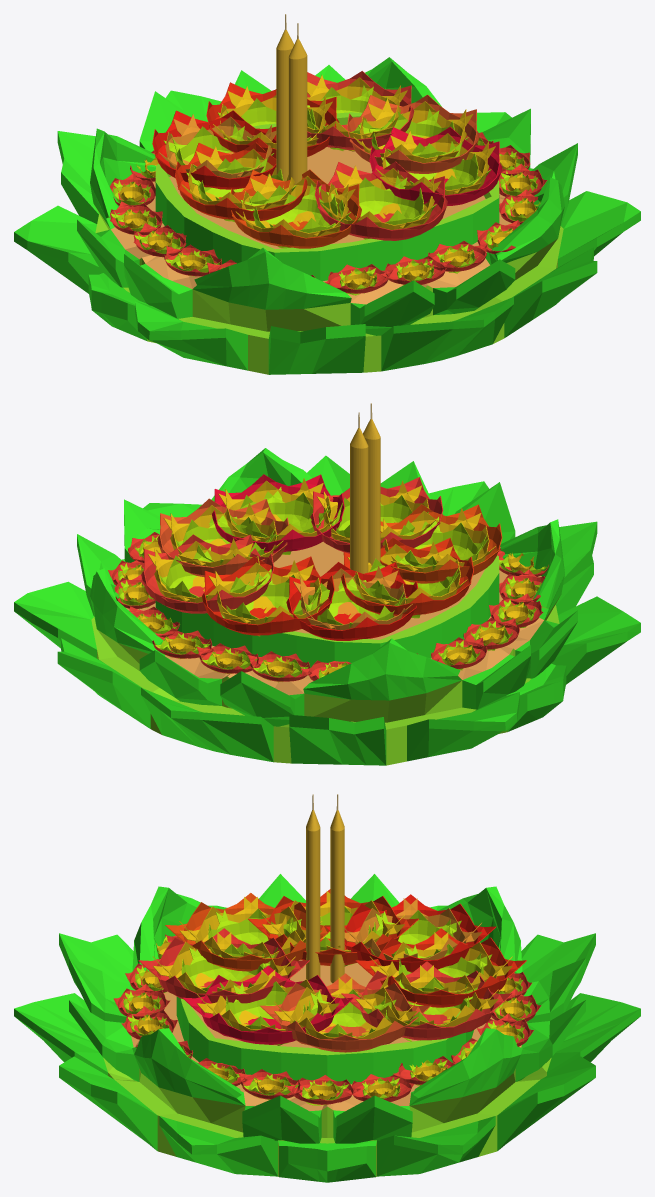
Rendered from Krathong.gltf.
The picture shows the model from 3 angles, top to bottom: view 1: azimuth 30°, elevation 25°; view 2: azimuth 150°, elevation 25°; view 3: azimuth 270°, elevation 25°; orthographic projection.
Visible parts, largest first — view 1: Object_4, Object_6, Object_5, Object_28, Object_19, Object_10, Object_2, Object_7, Object_16, Object_13, Object_20, Object_22 (+25 smaller); view 2: Object_4, Object_6, Object_5, Object_25, Object_13, Object_22, Object_92, Object_16, Object_19, Object_7, Object_10, Object_14 (+24 smaller); view 3: Object_4, Object_6, Object_7, Object_10, Object_22, Object_5, Object_25, Object_13, Object_28, Object_19, Object_2, Object_92 (+20 smaller).
Part boxes in pixels (left/top/right/bottom): Object_4: left=14, top=57, right=640, bottom=374; Object_6: left=94, top=112, right=563, bottom=374; Object_5: left=111, top=147, right=511, bottom=304; Object_28: left=315, top=161, right=447, bottom=240; Object_19: left=229, top=169, right=361, bottom=248; Object_10: left=369, top=126, right=502, bottom=205; Object_2: left=288, top=39, right=307, bottom=185; Object_7: left=347, top=94, right=479, bottom=173; Object_16: left=175, top=142, right=307, bottom=220; Object_13: left=152, top=110, right=276, bottom=189; Object_20: left=235, top=173, right=355, bottom=237; Object_22: left=307, top=71, right=414, bottom=149; Object_4: left=14, top=448, right=640, bottom=765; Object_6: left=91, top=555, right=559, bottom=765; Object_5: left=126, top=541, right=543, bottom=695; Object_25: left=202, top=556, right=334, bottom=635; Object_13: left=286, top=562, right=417, bottom=640; Object_22: left=141, top=534, right=274, bottom=613; Object_92: left=350, top=428, right=368, bottom=573; Object_16: left=341, top=537, right=473, bottom=616; Object_19: left=380, top=504, right=502, bottom=583; Object_7: left=157, top=498, right=288, bottom=577; Object_10: left=212, top=474, right=344, bottom=552; Object_14: left=293, top=566, right=412, bottom=630; Object_4: left=14, top=874, right=640, bottom=1182; Object_6: left=103, top=974, right=551, bottom=1176; Object_7: left=260, top=973, right=430, bottom=1052; Object_10: left=182, top=965, right=353, bottom=1044; Object_22: left=341, top=961, right=512, bottom=1040; Object_5: left=131, top=959, right=521, bottom=1111; Object_25: left=355, top=928, right=526, bottom=1007; Object_13: left=325, top=894, right=496, bottom=972; Object_28: left=138, top=928, right=309, bottom=1003; Object_19: left=165, top=893, right=330, bottom=971; Object_2: left=306, top=810, right=320, bottom=980; Object_92: left=330, top=810, right=344, bottom=983.
Bounding box in the file's own units: 3.47 × 1.81 × 3.83.
